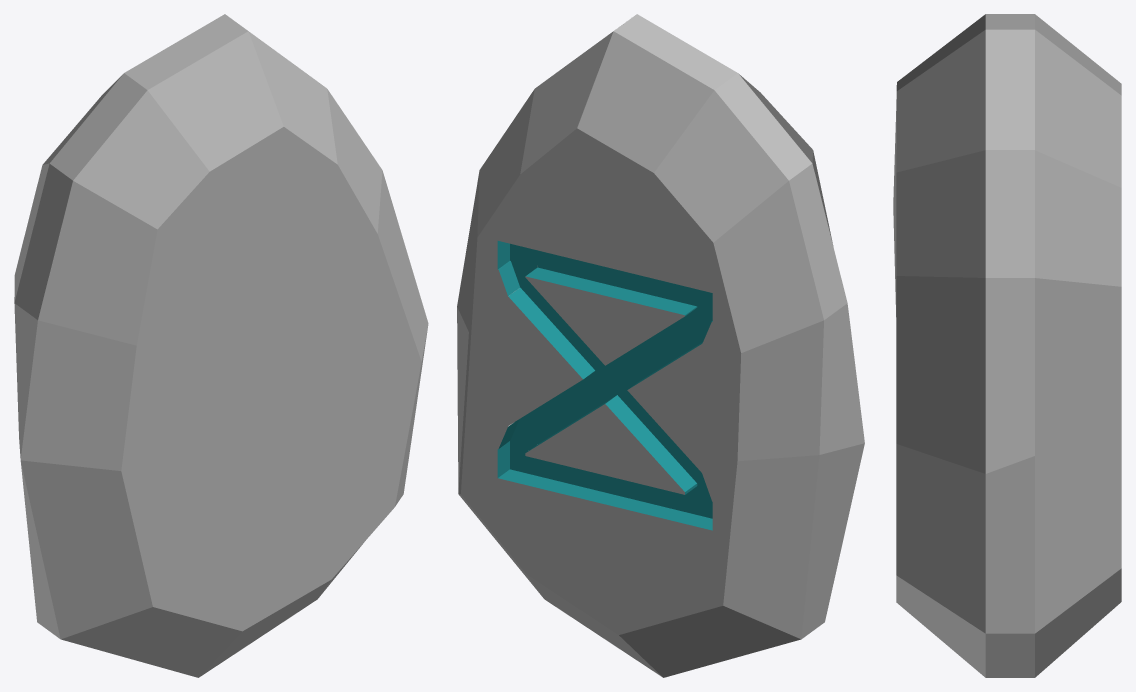
File: IceRune 1.fbx
The picture shows the model from 3 angles, left to right: view 1: azimuth 30°, elevation 25°; view 2: azimuth 150°, elevation 25°; view 3: azimuth 270°, elevation 25°; orthographic projection. The views are drawn at different scales.
Parts seen in each view (by area): view 1: IceRune; view 2: IceRune; view 3: IceRune.
Part boxes in pixels (x1,y1,x2,y2): IceRune: (14,14,428,677); IceRune: (457,14,864,677); IceRune: (893,14,1121,677).
Size of the model in its own units: 1.57 by 2.34 by 0.7291.
